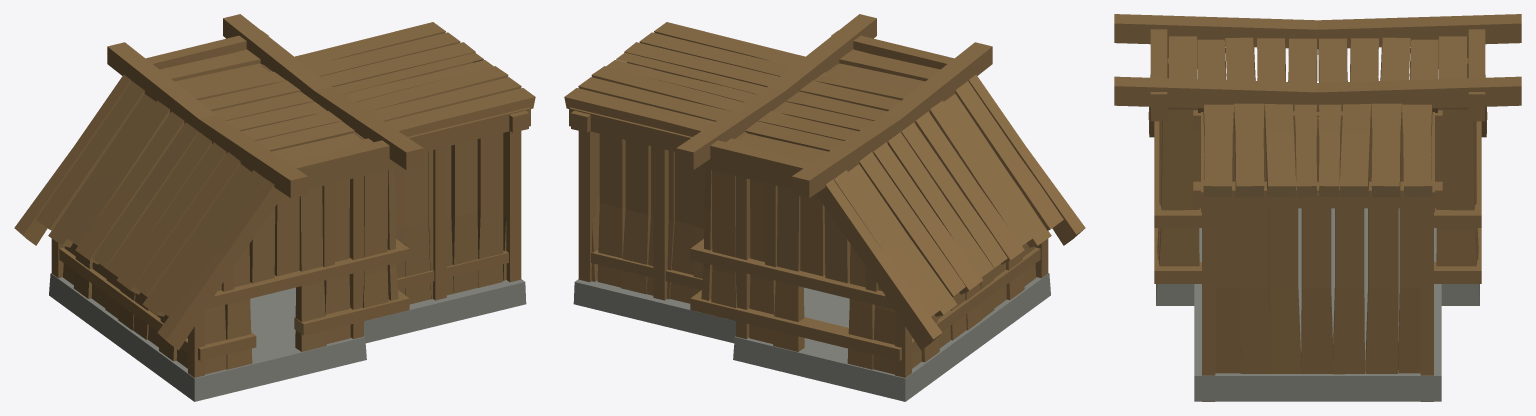
The model's file is kit_hut.fbx.
3 views of the same model, side by side, from view 1: azimuth 30°, elevation 25°; view 2: azimuth 150°, elevation 25°; view 3: azimuth 270°, elevation 25° (orthographic). The views are drawn at different scales.
Parts seen in each view (by area): view 1: kit_hut; view 2: kit_hut; view 3: kit_hut.
Boxes of the visible parts, left/top/right/bottom form: kit_hut: left=14, top=14, right=535, bottom=401; kit_hut: left=564, top=14, right=1085, bottom=401; kit_hut: left=1114, top=14, right=1521, bottom=401.
Size of the model in its own units: 4.5 by 2.36 by 3.61.
Materials: 1 (1 with a texture image).
